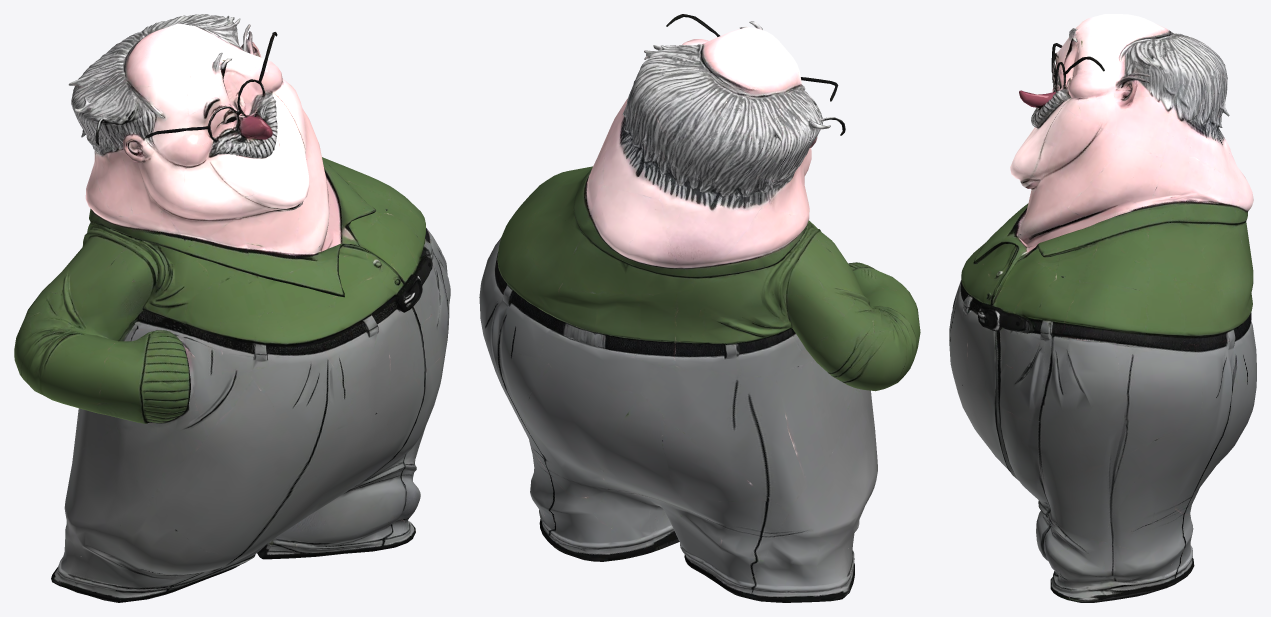
File: jolly_portly.glb
3 views of the same model, side by side, from view 1: azimuth 30°, elevation 25°; view 2: azimuth 150°, elevation 25°; view 3: azimuth 270°, elevation 25° (orthographic). The views are drawn at different scales.
Bounding box in the file's own units: 1.53 × 1.9 × 1.07.
1 material, 1 textured.
